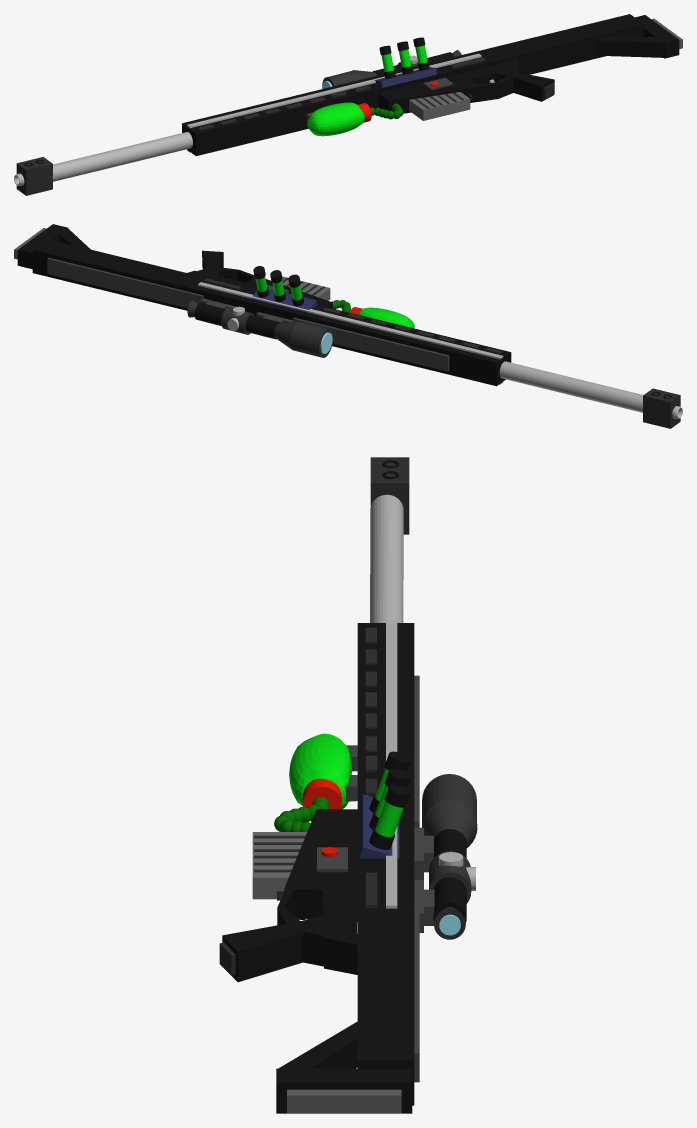
File: sniper02.fbx
3 renders of one model, top to bottom at view 1: azimuth 30°, elevation 25°; view 2: azimuth 150°, elevation 25°; view 3: azimuth 270°, elevation 25°, orthographic. The views are drawn at different scales.
Parts seen in each view (by area): view 1: Cube, Cylinder, Cube.001, Sphere, Cube.008, Cube.010, Cube.012, Cube.009, Cube.003, Cube.007, Cube.002, Cube.005 (+1 smaller); view 2: Cube, Cylinder, Cube.040, Cube.039, Cube.010, Cube.009, Cylinder.006, Cube.007, Sphere, Cylinder.001, Cylinder.003, Cylinder.002 (+4 smaller); view 3: Cube, Cube.001, Cylinder, Cube.007, Cube.003, Sphere, Cube.041, Cube.002, Cube.010, Cube.012, Cube.008, Cube.009 (+5 smaller).
Part boxes in pixels (bbox=[...]): Cube: bbox=[182, 14, 644, 156]; Cylinder: bbox=[52, 132, 192, 181]; Cube.001: bbox=[378, 73, 478, 113]; Sphere: bbox=[307, 102, 364, 136]; Cube.008: bbox=[595, 36, 664, 57]; Cube.010: bbox=[187, 53, 481, 128]; Cube.012: bbox=[409, 92, 470, 120]; Cube.009: bbox=[16, 157, 52, 195]; Cube.003: bbox=[510, 72, 554, 101]; Cube.007: bbox=[635, 15, 679, 58]; Cube.002: bbox=[463, 59, 518, 84]; Cube.005: bbox=[477, 82, 499, 101]; Cube: bbox=[32, 239, 511, 386]; Cylinder: bbox=[499, 361, 643, 412]; Cube.040: bbox=[47, 257, 203, 307]; Cube.039: bbox=[293, 317, 449, 371]; Cube.010: bbox=[198, 282, 503, 359]; Cube.009: bbox=[643, 388, 680, 428]; Cylinder.006: bbox=[290, 321, 332, 357]; Cube.007: bbox=[17, 224, 67, 269]; Sphere: bbox=[358, 307, 414, 328]; Cylinder.001: bbox=[245, 315, 280, 339]; Cylinder.003: bbox=[194, 302, 225, 325]; Cylinder.002: bbox=[221, 307, 254, 334]; Cube: bbox=[357, 623, 414, 1105]; Cube.001: bbox=[284, 809, 357, 921]; Cylinder: bbox=[370, 494, 403, 622]; Cube.007: bbox=[276, 1068, 412, 1113]; Cube.003: bbox=[222, 922, 303, 982]; Sphere: bbox=[289, 733, 351, 809]; Cube.041: bbox=[287, 1089, 401, 1113]; Cube.002: bbox=[323, 890, 357, 974]; Cube.010: bbox=[386, 621, 397, 908]; Cube.012: bbox=[252, 832, 306, 899]; Cube.008: bbox=[278, 1021, 357, 1069]; Cube.009: bbox=[370, 457, 409, 534].
Size of the model in its own units: 8736 by 754 by 1523.
